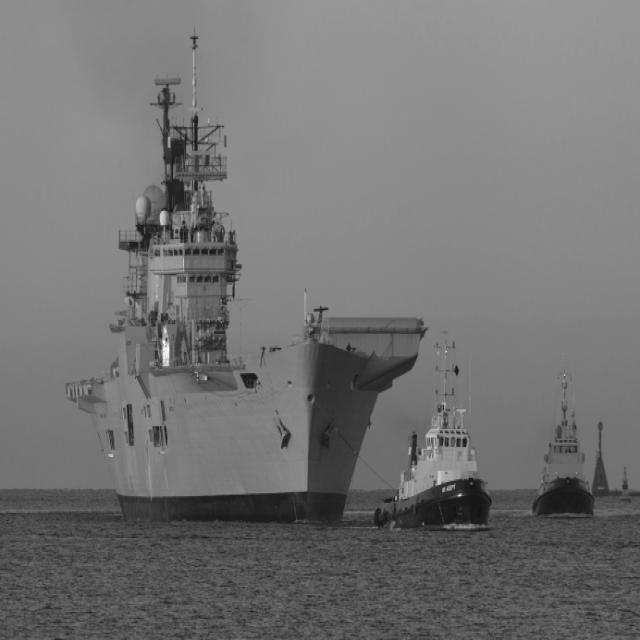Portanaves: (64, 19, 428, 529)
